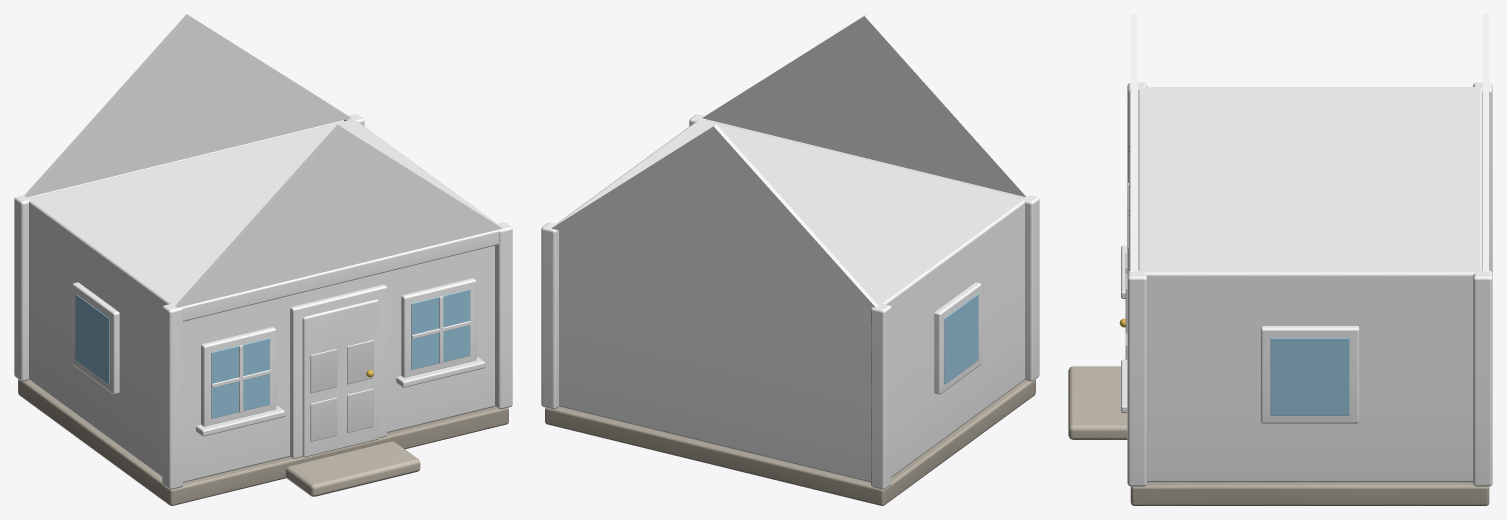
File: house_body_peaked.glb
3 renders of one model, left to right at view 1: azimuth 30°, elevation 25°; view 2: azimuth 150°, elevation 25°; view 3: azimuth 270°, elevation 25°, orthographic. The views are drawn at different scales.
Visible parts, largest first — view 1: house_body_peaked_house_wall, house_body_peaked_house_trim, house_body_peaked_house_stone, house_body_peaked_house_door, house_body_peaked_house_glass; view 2: house_body_peaked_house_wall, house_body_peaked_house_trim, house_body_peaked_house_stone, house_body_peaked_house_glass; view 3: house_body_peaked_house_wall, house_body_peaked_house_trim, house_body_peaked_house_stone, house_body_peaked_house_glass, house_body_peaked_house_door.
Boxes of the visible parts, x1,y1,x2,y2 form: house_body_peaked_house_wall: (24,14,501,482); house_body_peaked_house_trim: (14,114,512,489); house_body_peaked_house_stone: (18,379,508,505); house_body_peaked_house_door: (302,299,378,457); house_body_peaked_house_glass: (75,289,470,418); house_body_peaked_house_wall: (552,14,1029,482); house_body_peaked_house_trim: (541,114,1039,489); house_body_peaked_house_stone: (545,379,1035,505); house_body_peaked_house_glass: (944,294,978,384); house_body_peaked_house_wall: (1130,14,1489,482); house_body_peaked_house_trim: (1121,82,1492,486); house_body_peaked_house_stone: (1068,366,1489,505); house_body_peaked_house_glass: (1270,338,1349,415); house_body_peaked_house_door: (1119,205,1128,359).
Bounding box in the file's own units: 2.82 × 2.66 × 2.58.
